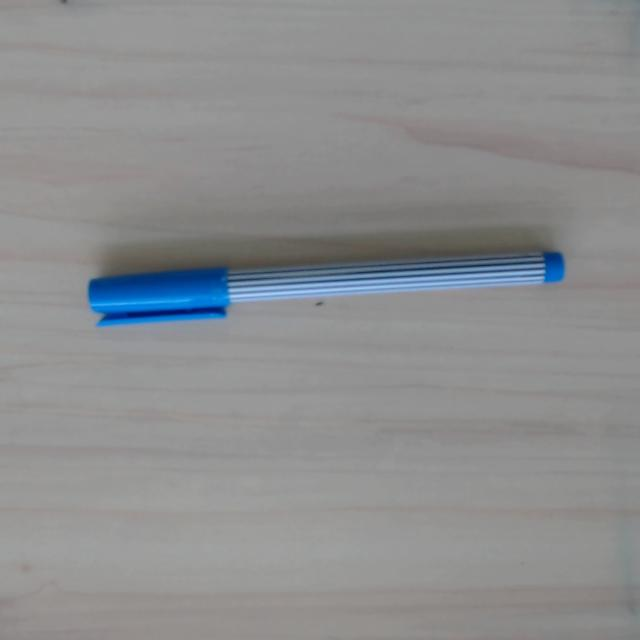Pulpen-Garis-Biru: (87, 245, 567, 327)
